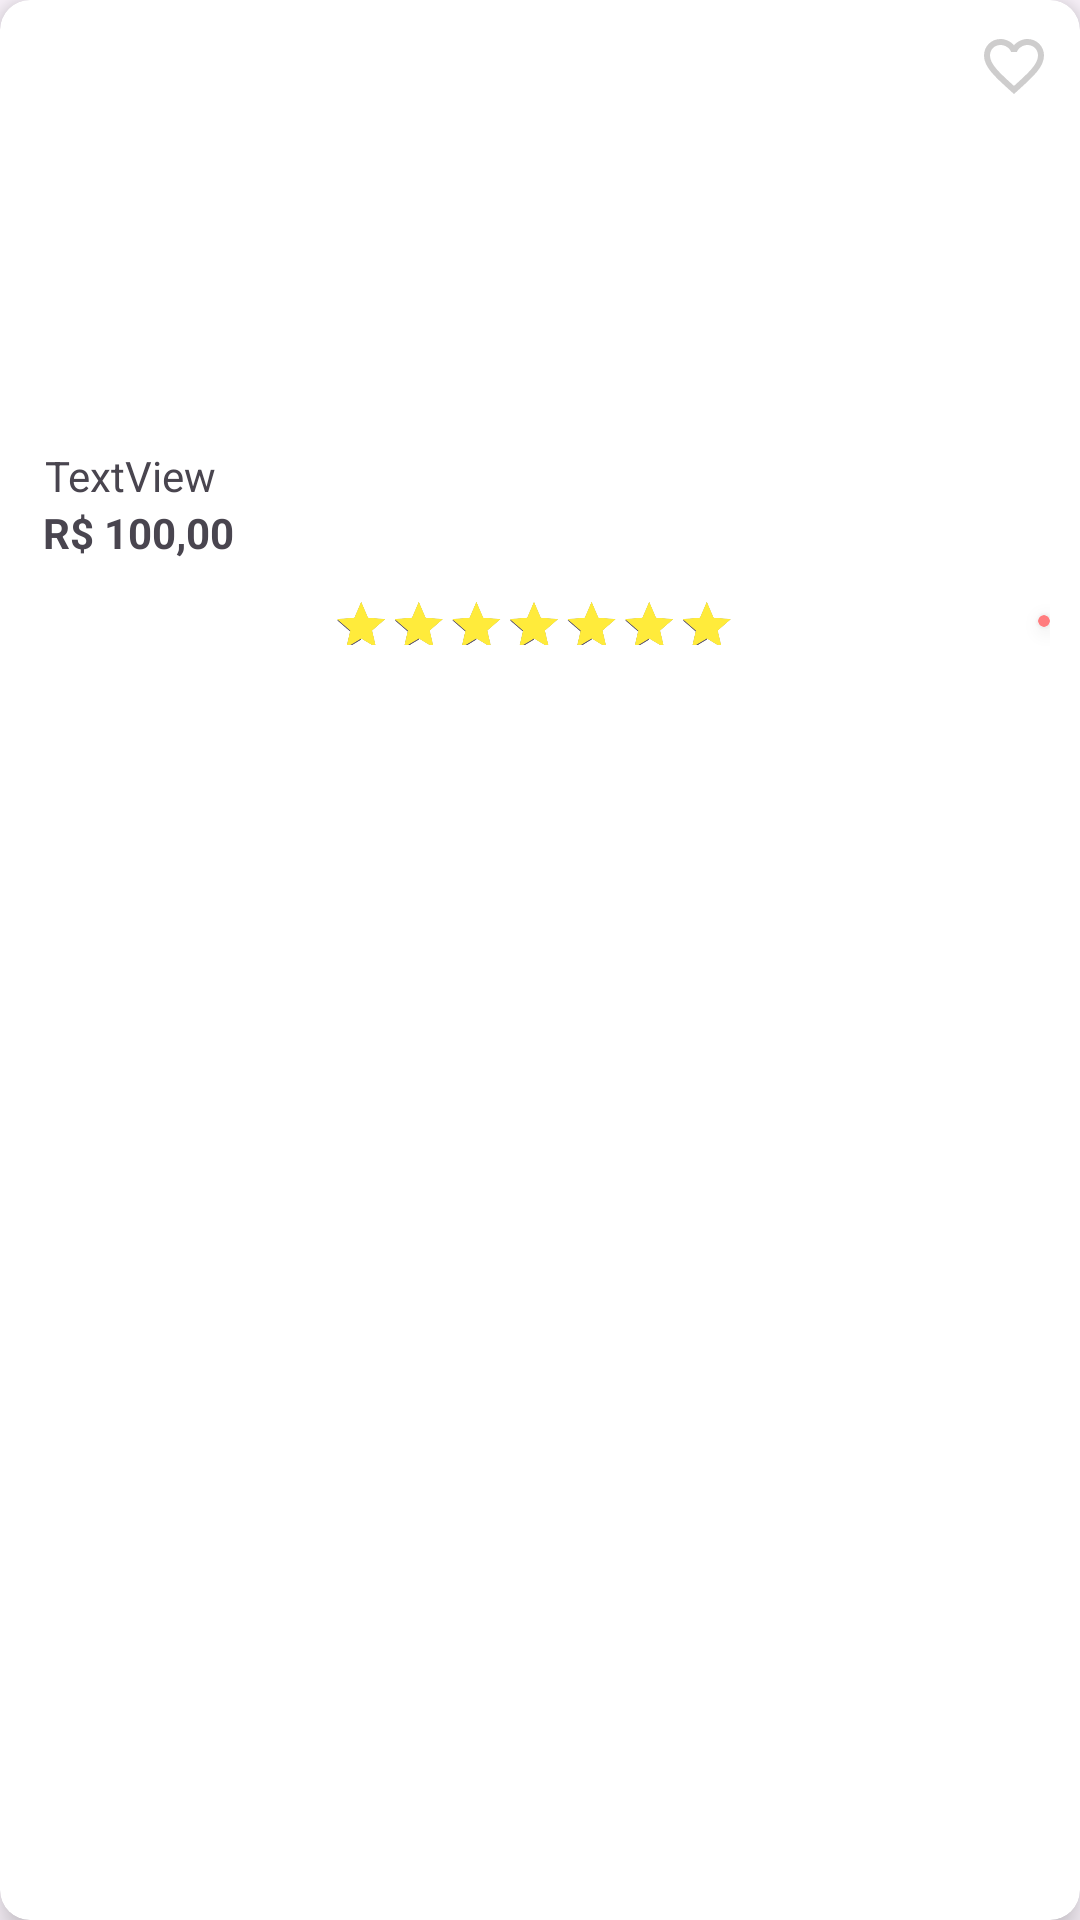

Icon click points for this 1080px x 1920px phone screenshot, format [x,y]:
favorite border: [1014,66]
